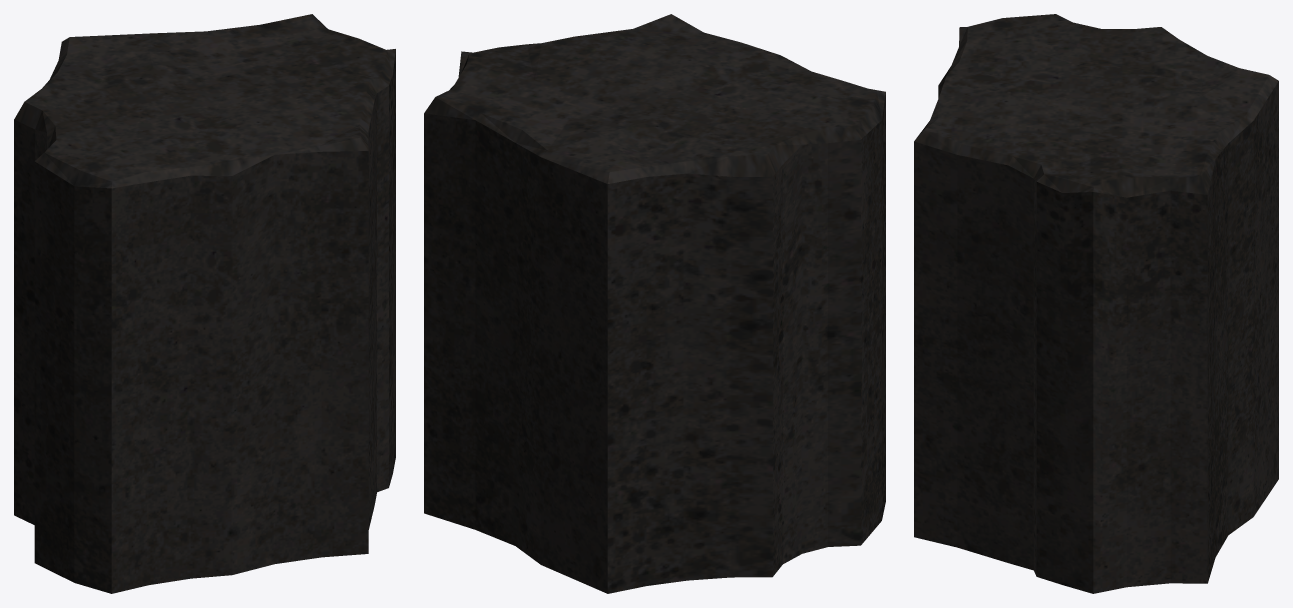
Rendered from TrapFloorS06.fbx.
3 views of the same model, side by side, from view 1: azimuth 30°, elevation 25°; view 2: azimuth 150°, elevation 25°; view 3: azimuth 270°, elevation 25° (orthographic). The views are drawn at different scales.
Visible parts, largest first — view 1: SM_ENV_NATURE_Cave_Floor_Trap_09.mo; view 2: SM_ENV_NATURE_Cave_Floor_Trap_09.mo; view 3: SM_ENV_NATURE_Cave_Floor_Trap_09.mo.
Boxes of the visible parts, box(x1,y1,x2,y2) form: SM_ENV_NATURE_Cave_Floor_Trap_09.mo: box(14, 14, 395, 593); SM_ENV_NATURE_Cave_Floor_Trap_09.mo: box(424, 14, 885, 593); SM_ENV_NATURE_Cave_Floor_Trap_09.mo: box(914, 14, 1278, 593).
Bounding box in the file's own units: 176 × 183 × 150.
1 material, 1 textured.
